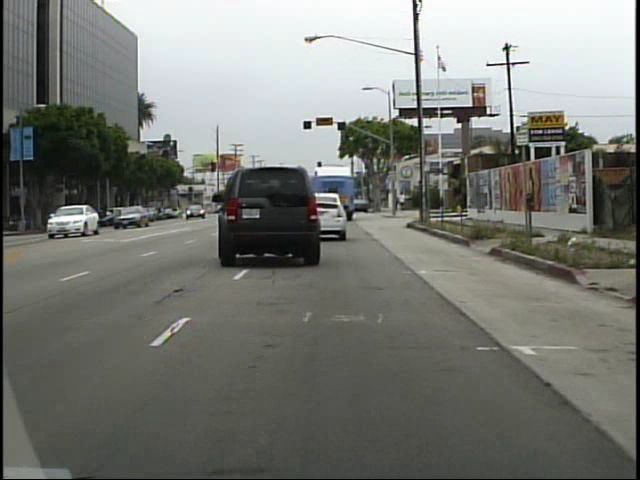person: (393, 189, 401, 214), (400, 189, 407, 212)
